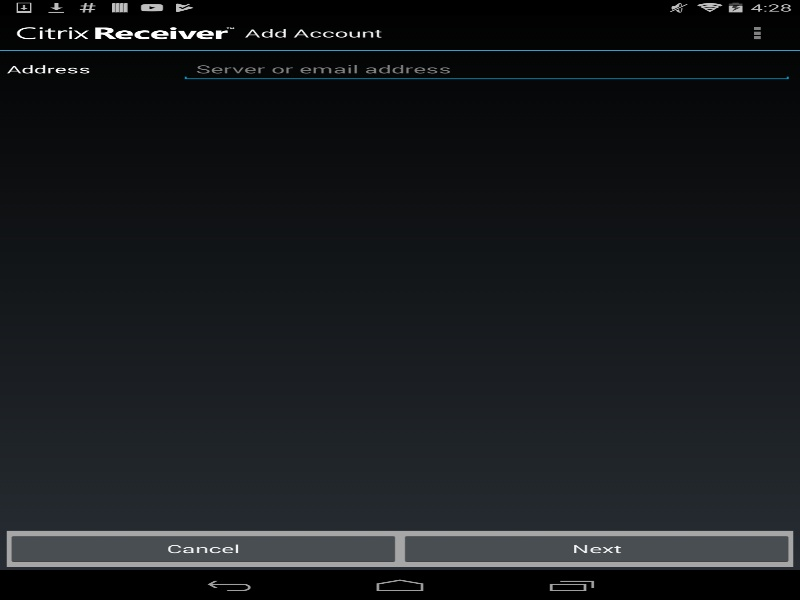Button: (6, 533, 400, 563), (400, 533, 793, 563), (714, 15, 800, 50)
Input: (180, 56, 793, 81)
